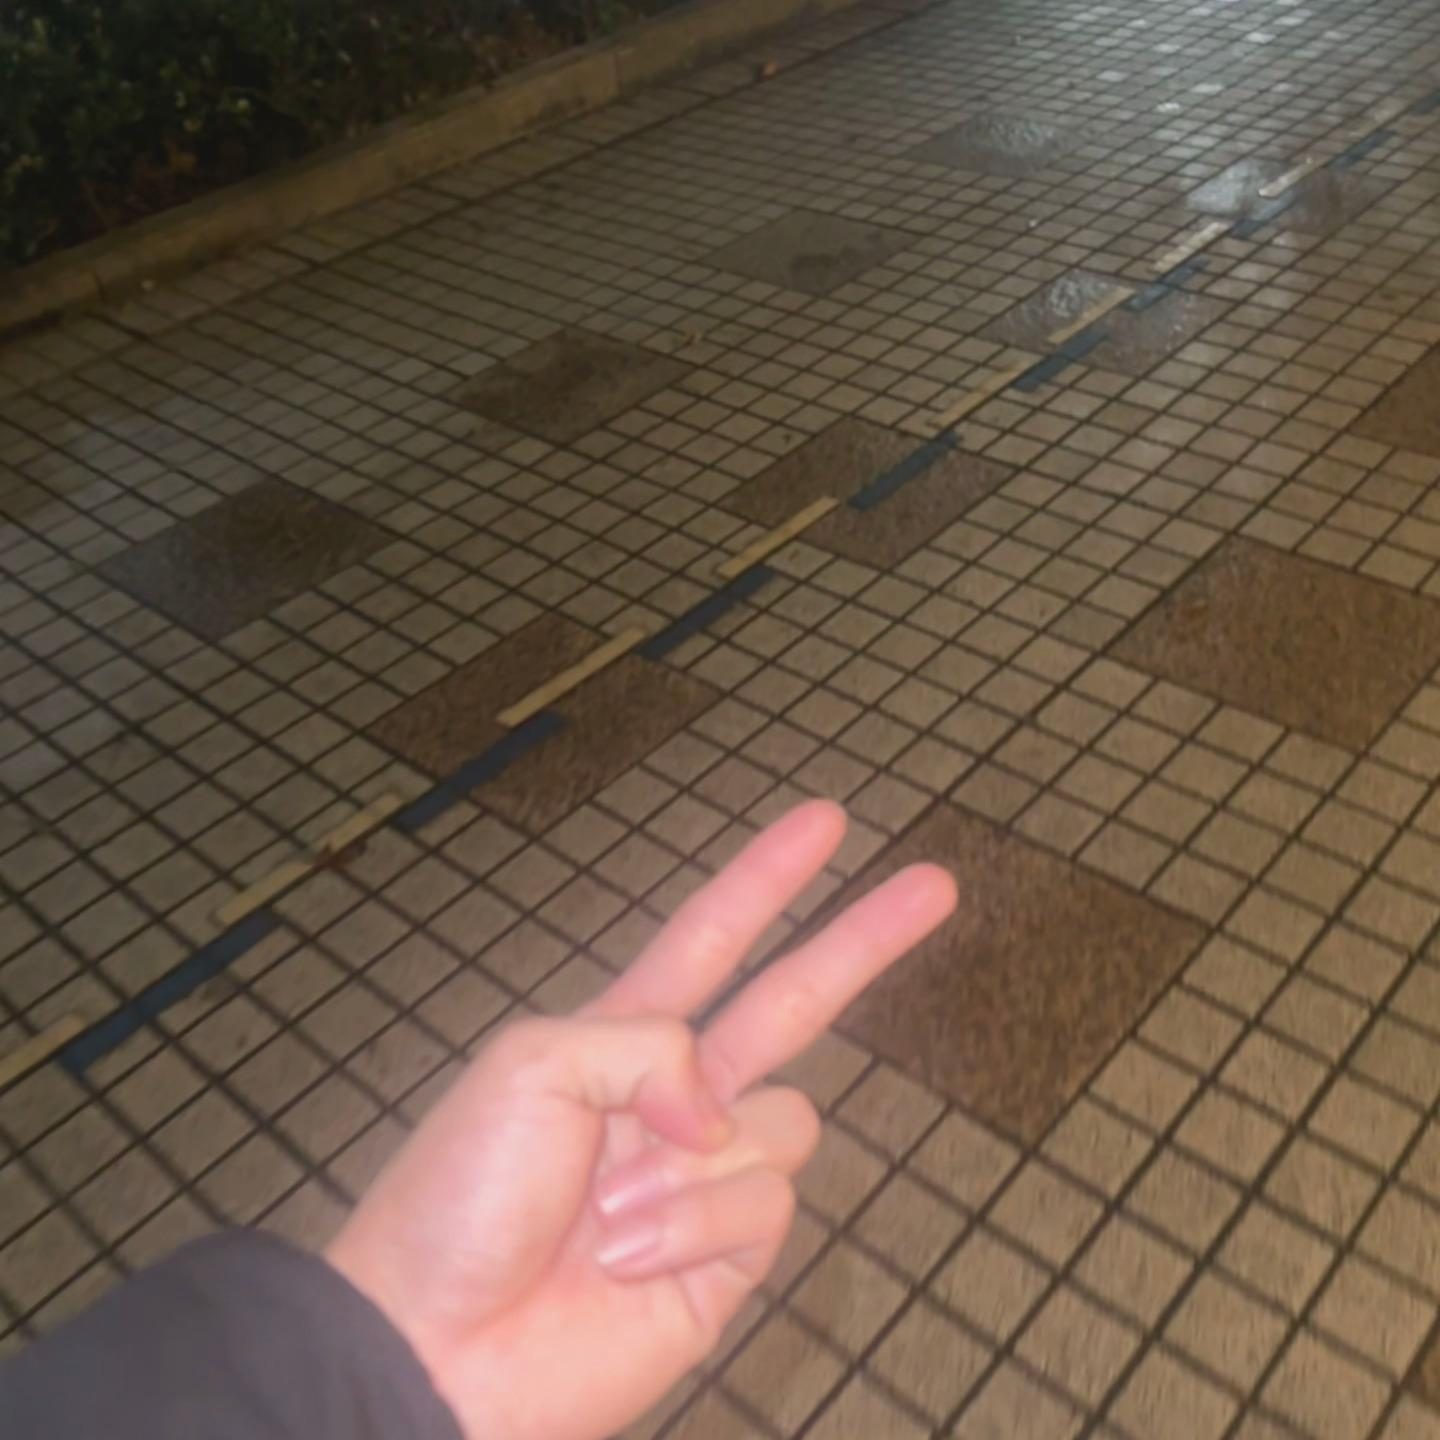without_gloves: (425, 546, 1084, 1375)
